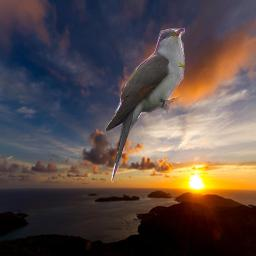Cuckoo: (104, 28, 185, 184)
